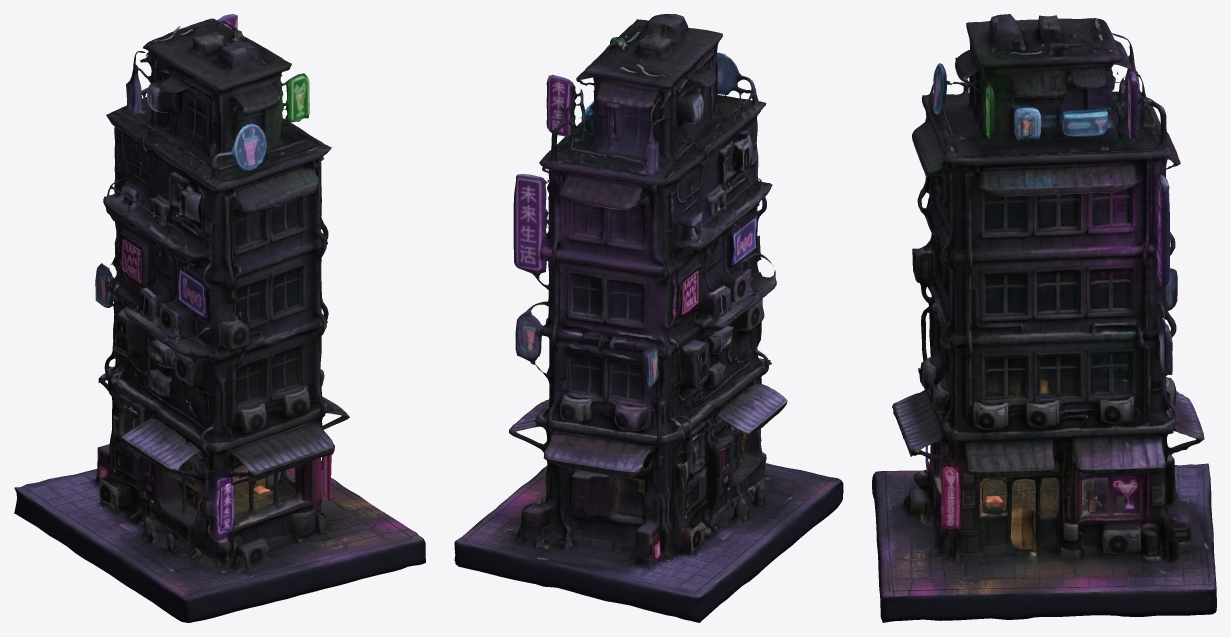
Rendered from shopfront-a.glb.
The picture shows the model from 3 angles, left to right: view 1: azimuth 30°, elevation 25°; view 2: azimuth 150°, elevation 25°; view 3: azimuth 270°, elevation 25°; orthographic projection. The views are drawn at different scales.
Parts seen in each view (by area): view 1: 44966f75-c925-4619-9577-3d5bd630a80d; view 2: 44966f75-c925-4619-9577-3d5bd630a80d; view 3: 44966f75-c925-4619-9577-3d5bd630a80d.
Boxes of the visible parts, bbox=[...] form: 44966f75-c925-4619-9577-3d5bd630a80d: bbox=[14, 14, 425, 622]; 44966f75-c925-4619-9577-3d5bd630a80d: bbox=[454, 14, 843, 622]; 44966f75-c925-4619-9577-3d5bd630a80d: bbox=[872, 14, 1216, 622].
Size of the model in its own units: 0.5045 by 0.9476 by 0.5523.
1 material, 1 textured.
